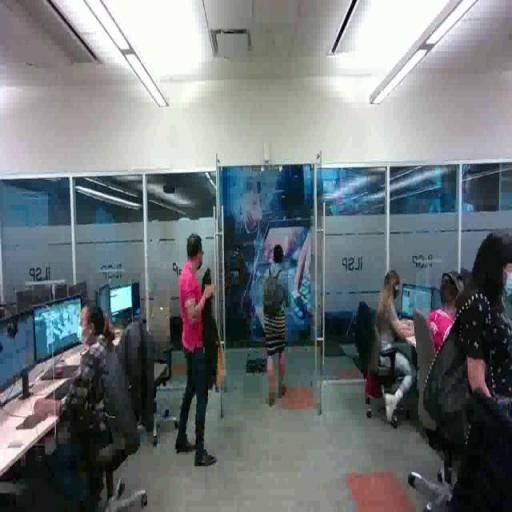person: (422, 222, 512, 512), (33, 304, 139, 467), (175, 234, 221, 470), (369, 267, 424, 426), (263, 244, 296, 409)
